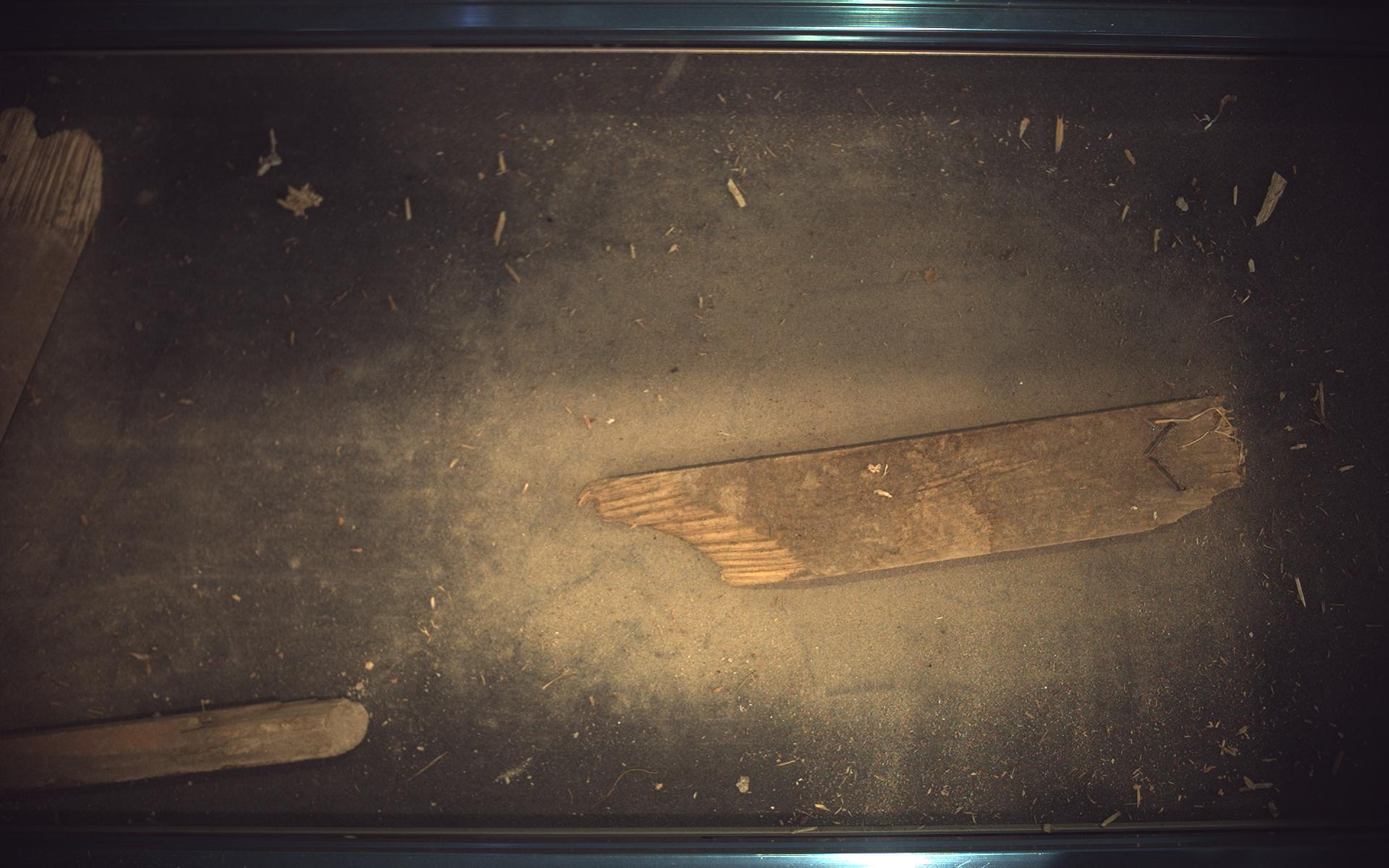wood: (579, 397, 1247, 587)
